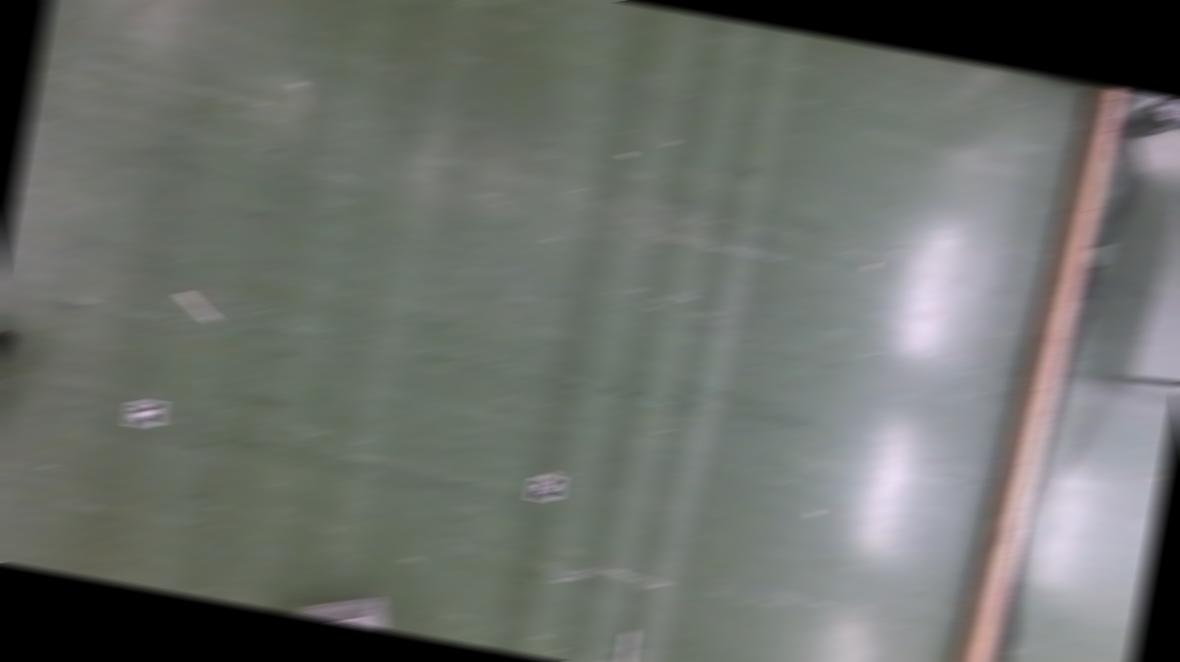probes: (173, 289, 222, 322), (617, 628, 638, 662)
rako: (280, 580, 406, 632)
